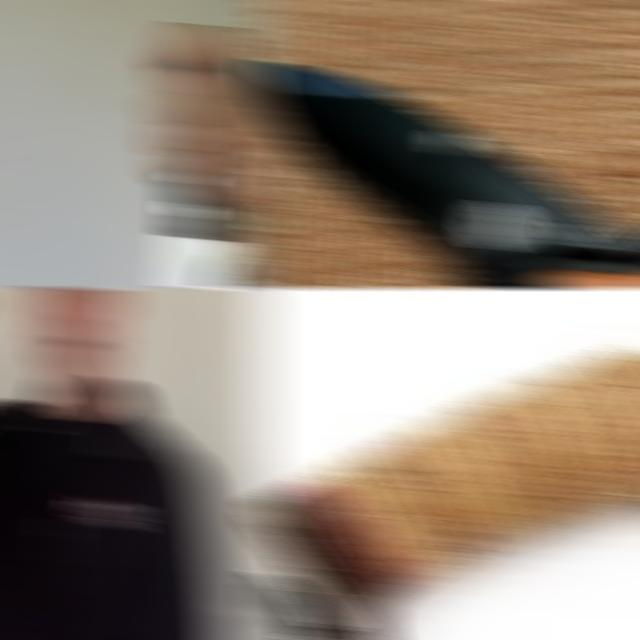Knife: (163, 150, 243, 288)
Knife_Handle: (124, 2, 272, 288)
